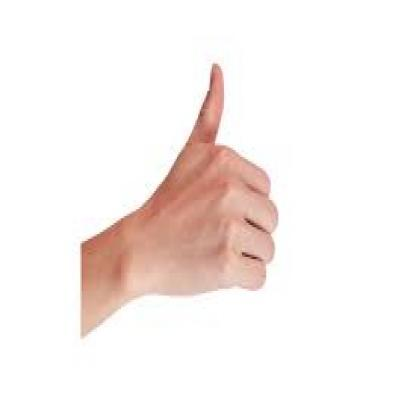thumb_up: (155, 55, 280, 300)
